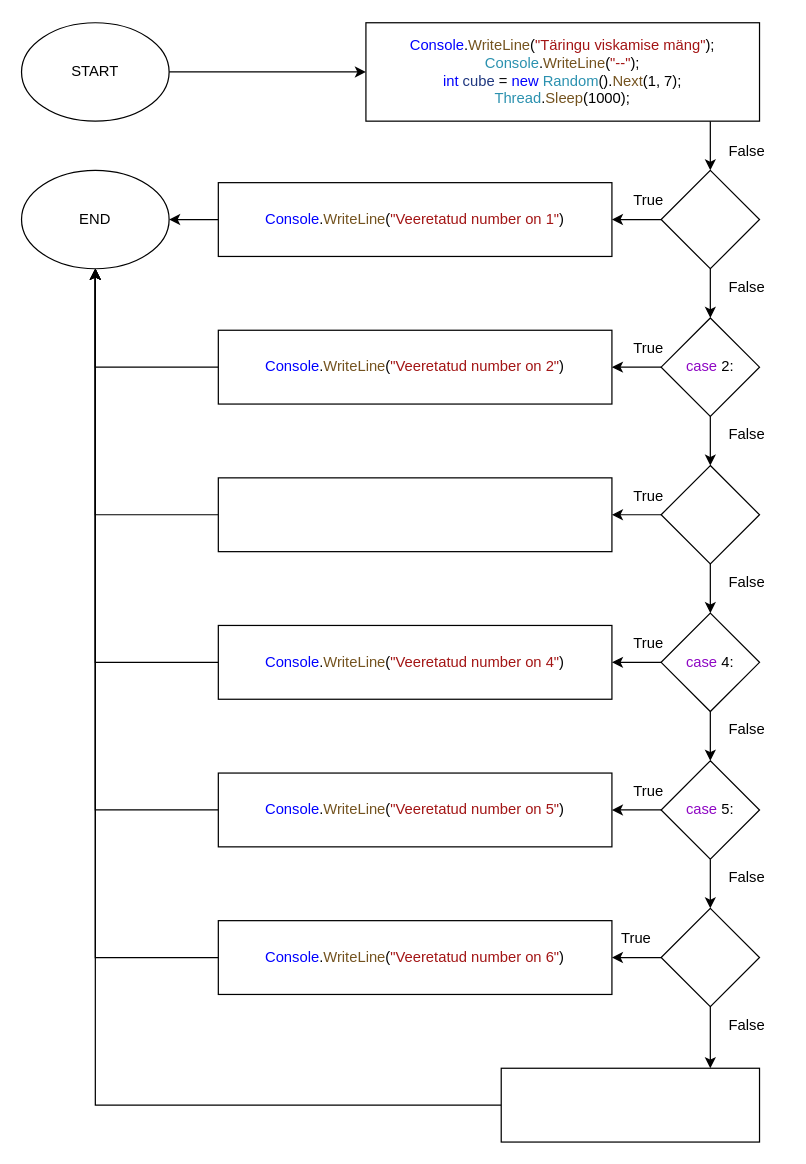
Image size: 806x1164. Some labels were removed from this diagram. The shapes that lost their labels are listed below. From the top down, each one's centre as x and y in pixels, then its label:
pixel 710 219: case 1:
pixel 414 514: Console . WriteLine ( "Veeretatud number on 3" )
pixel 710 514: case 3:
pixel 710 957: case 6:
pixel 630 1104: Console . WriteLine ( "ERROR" );
